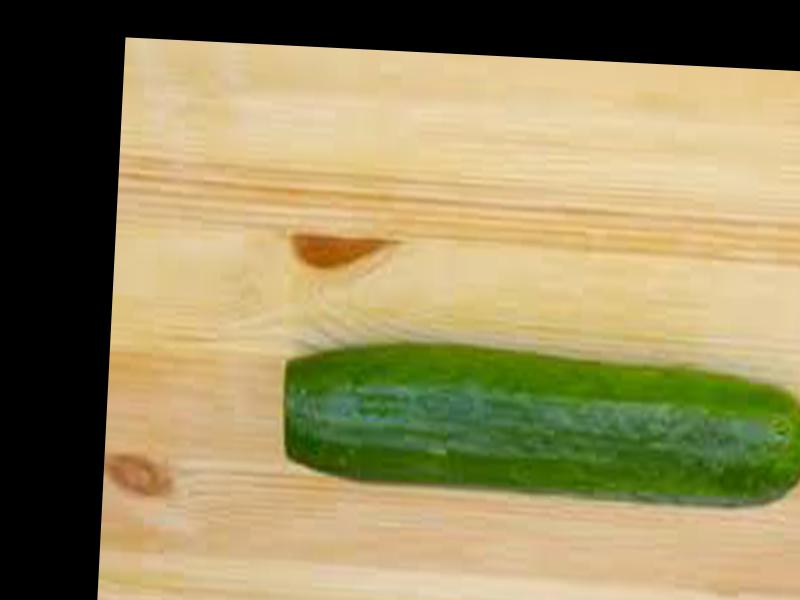Cucumber: (282, 341, 800, 510)
